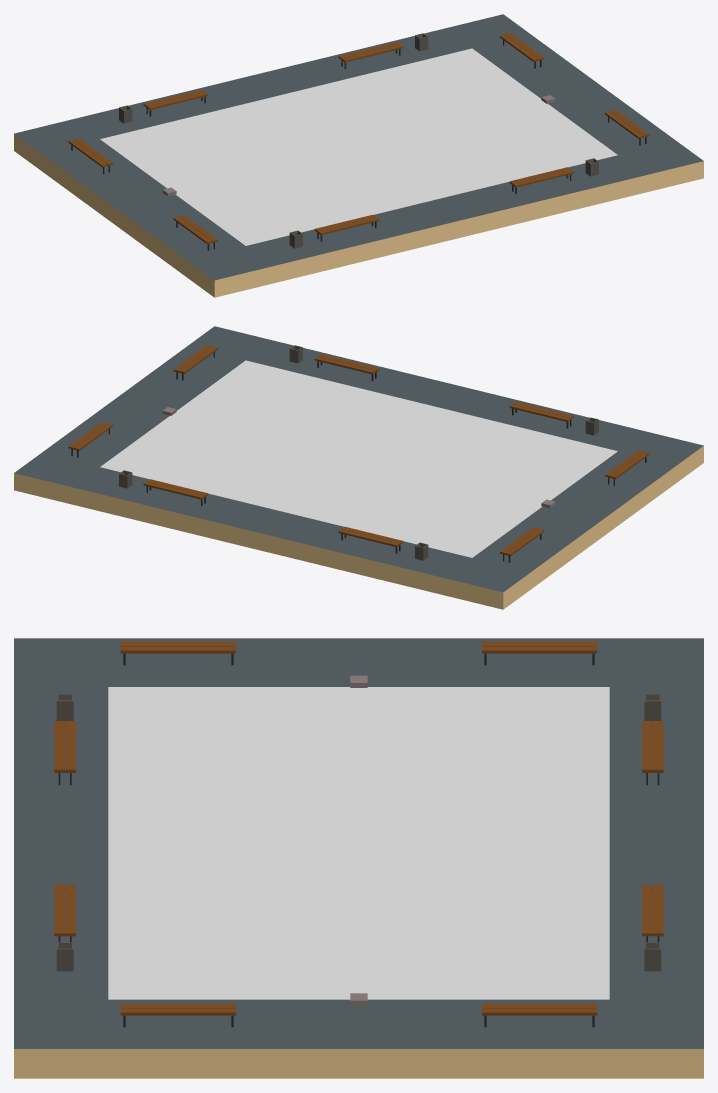
File: BasketballCourt.fbx
The picture shows the model from 3 angles, top to bottom: view 1: azimuth 30°, elevation 25°; view 2: azimuth 150°, elevation 25°; view 3: azimuth 270°, elevation 25°; orthographic projection. The views are drawn at different scales.
Parts seen in each view (by area): view 1: Base; view 2: Base; view 3: Base.
Boxes of the visible parts, x1=… form: Base: x1=14, y1=14, x2=703, y2=297; Base: x1=14, y1=326, x2=703, y2=609; Base: x1=14, y1=638, x2=703, y2=1078.
Bounding box in the file's own units: 579 × 33.92 × 411.
